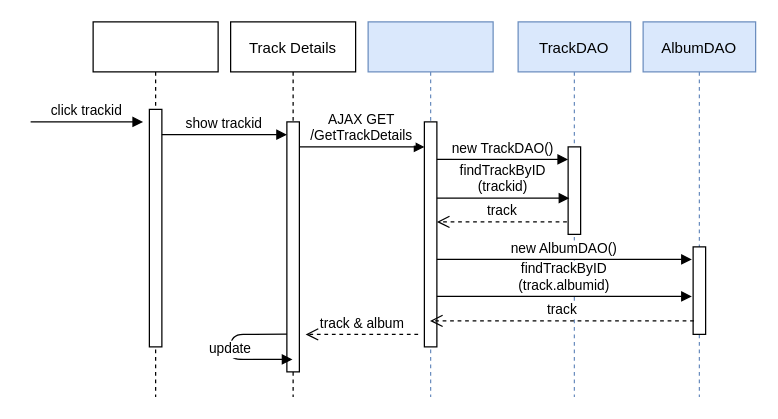
Some shapes in this 778 by 419 pixel diagram are drawn without their labels. Each missing label, with the box of its shape:
GetTrackDetails: (367, 21, 493, 397)
Playlist Tracks: (92, 21, 218, 397)
